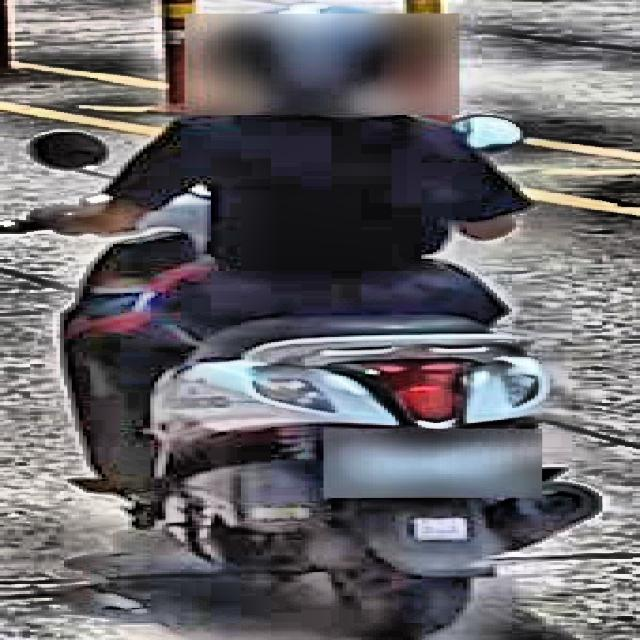motorcycle: (26, 122, 630, 639)
